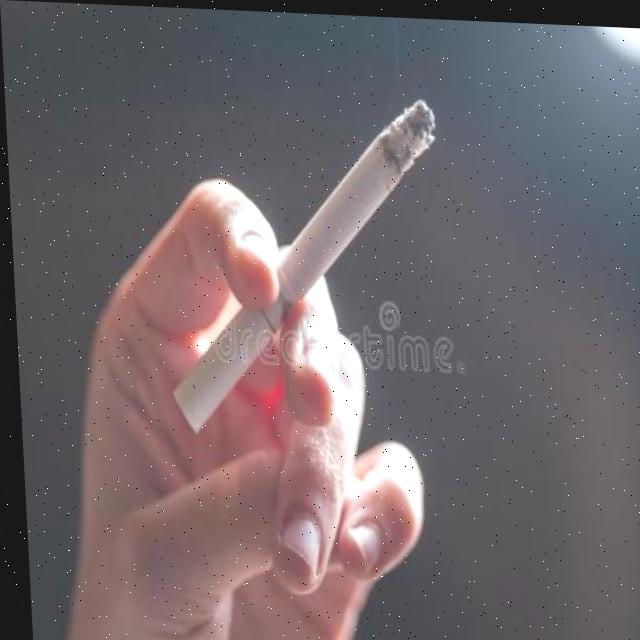cigarette: (152, 80, 450, 443)
